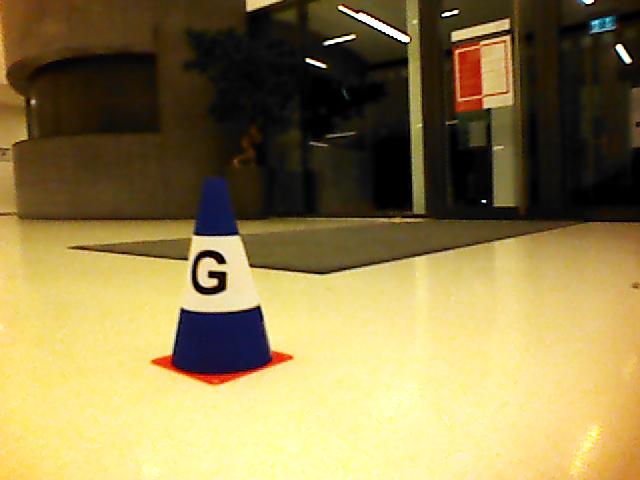bluecone: (171, 177, 273, 374)
